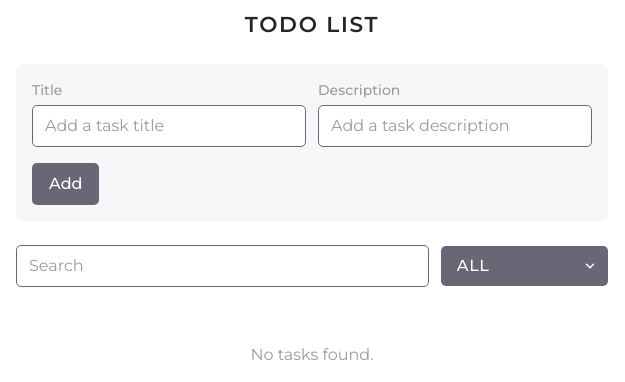
Test: App › removes a task
In the field labelled "Title": (169, 126) [32,105,306,147], type "Buy breakfast"
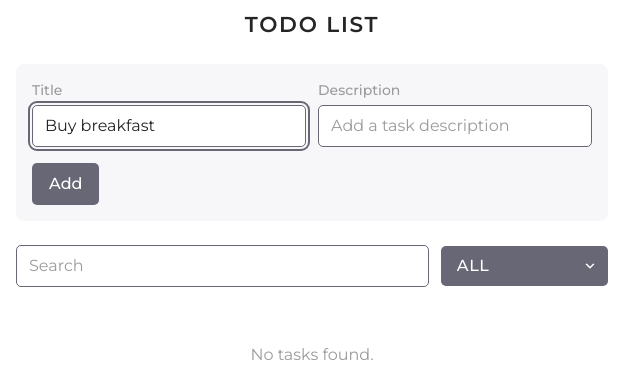
Click the button "Add": click(66, 184) [32,163,100,205]
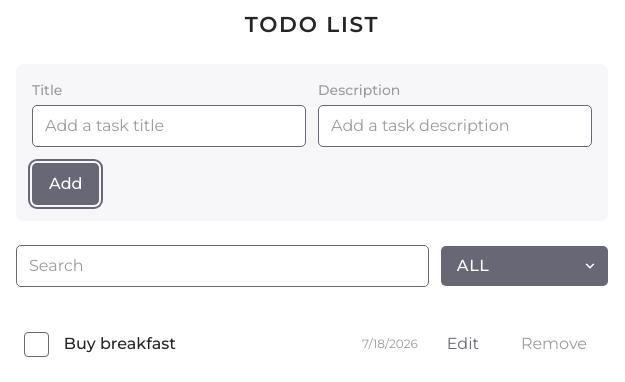
Click the button with aria-label "remove buy breakfast": click(554, 344) [504,323,604,365]
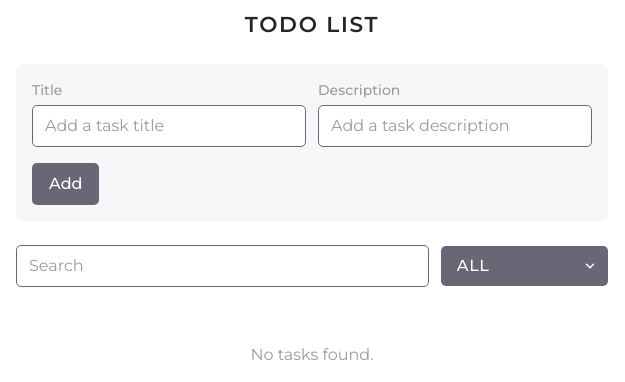
Check: the text "Buy breakfast" is gone
Check: the text "No tasks found." is shown, box [250,345,374,364]
